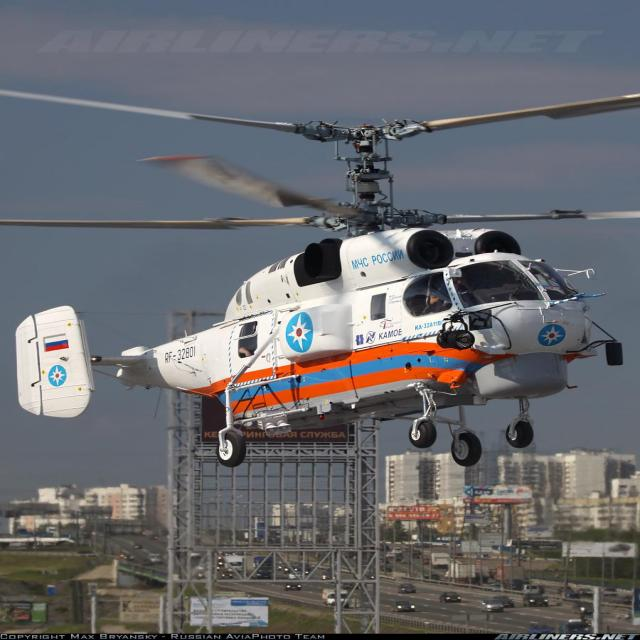MIL_HELO: (0, 71, 640, 469)
